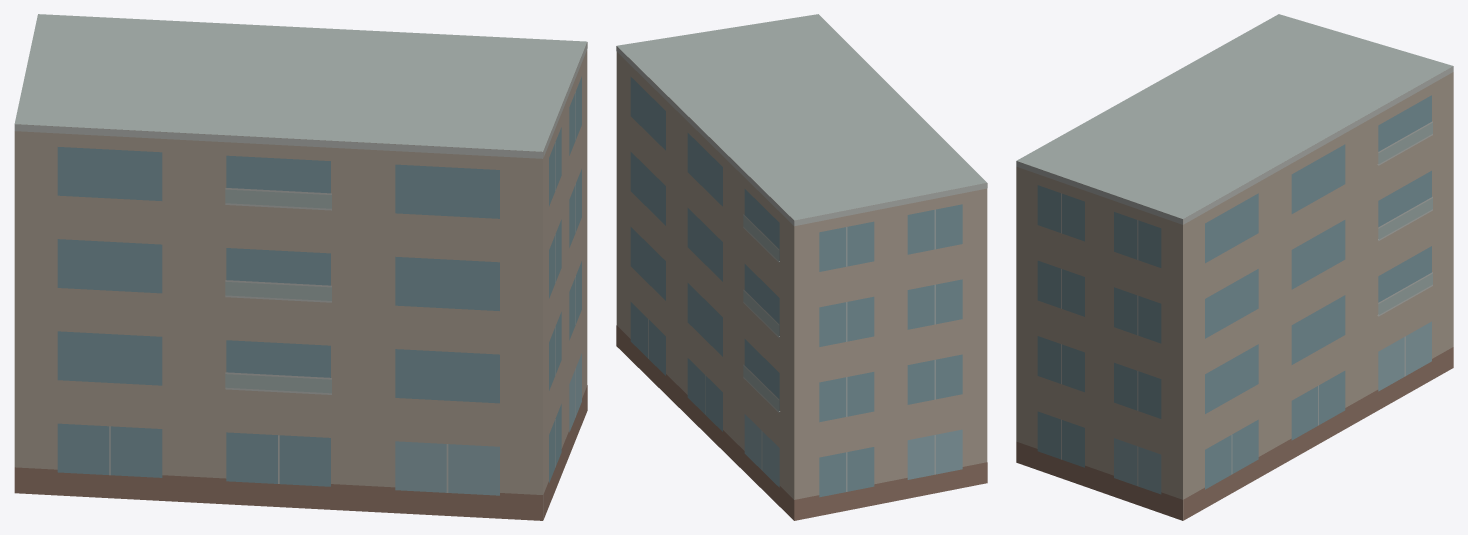
The model's file is survey-upis-32909216.glb.
The picture shows the model from 3 angles, left to right: view 1: azimuth 30°, elevation 25°; view 2: azimuth 150°, elevation 25°; view 3: azimuth 270°, elevation 25°; orthographic projection. The views are drawn at different scales.
Parts seen in each view (by area): view 1: survey-upis-32909216.tmp; view 2: survey-upis-32909216.tmp; view 3: survey-upis-32909216.tmp.
Part boxes in pixels (box(x1,y1,x2,y2)): survey-upis-32909216.tmp: box(14, 14, 587, 520); survey-upis-32909216.tmp: box(616, 14, 987, 520); survey-upis-32909216.tmp: box(1016, 14, 1453, 520).
Size of the model in its own units: 18.68 by 12.8 by 16.83.
